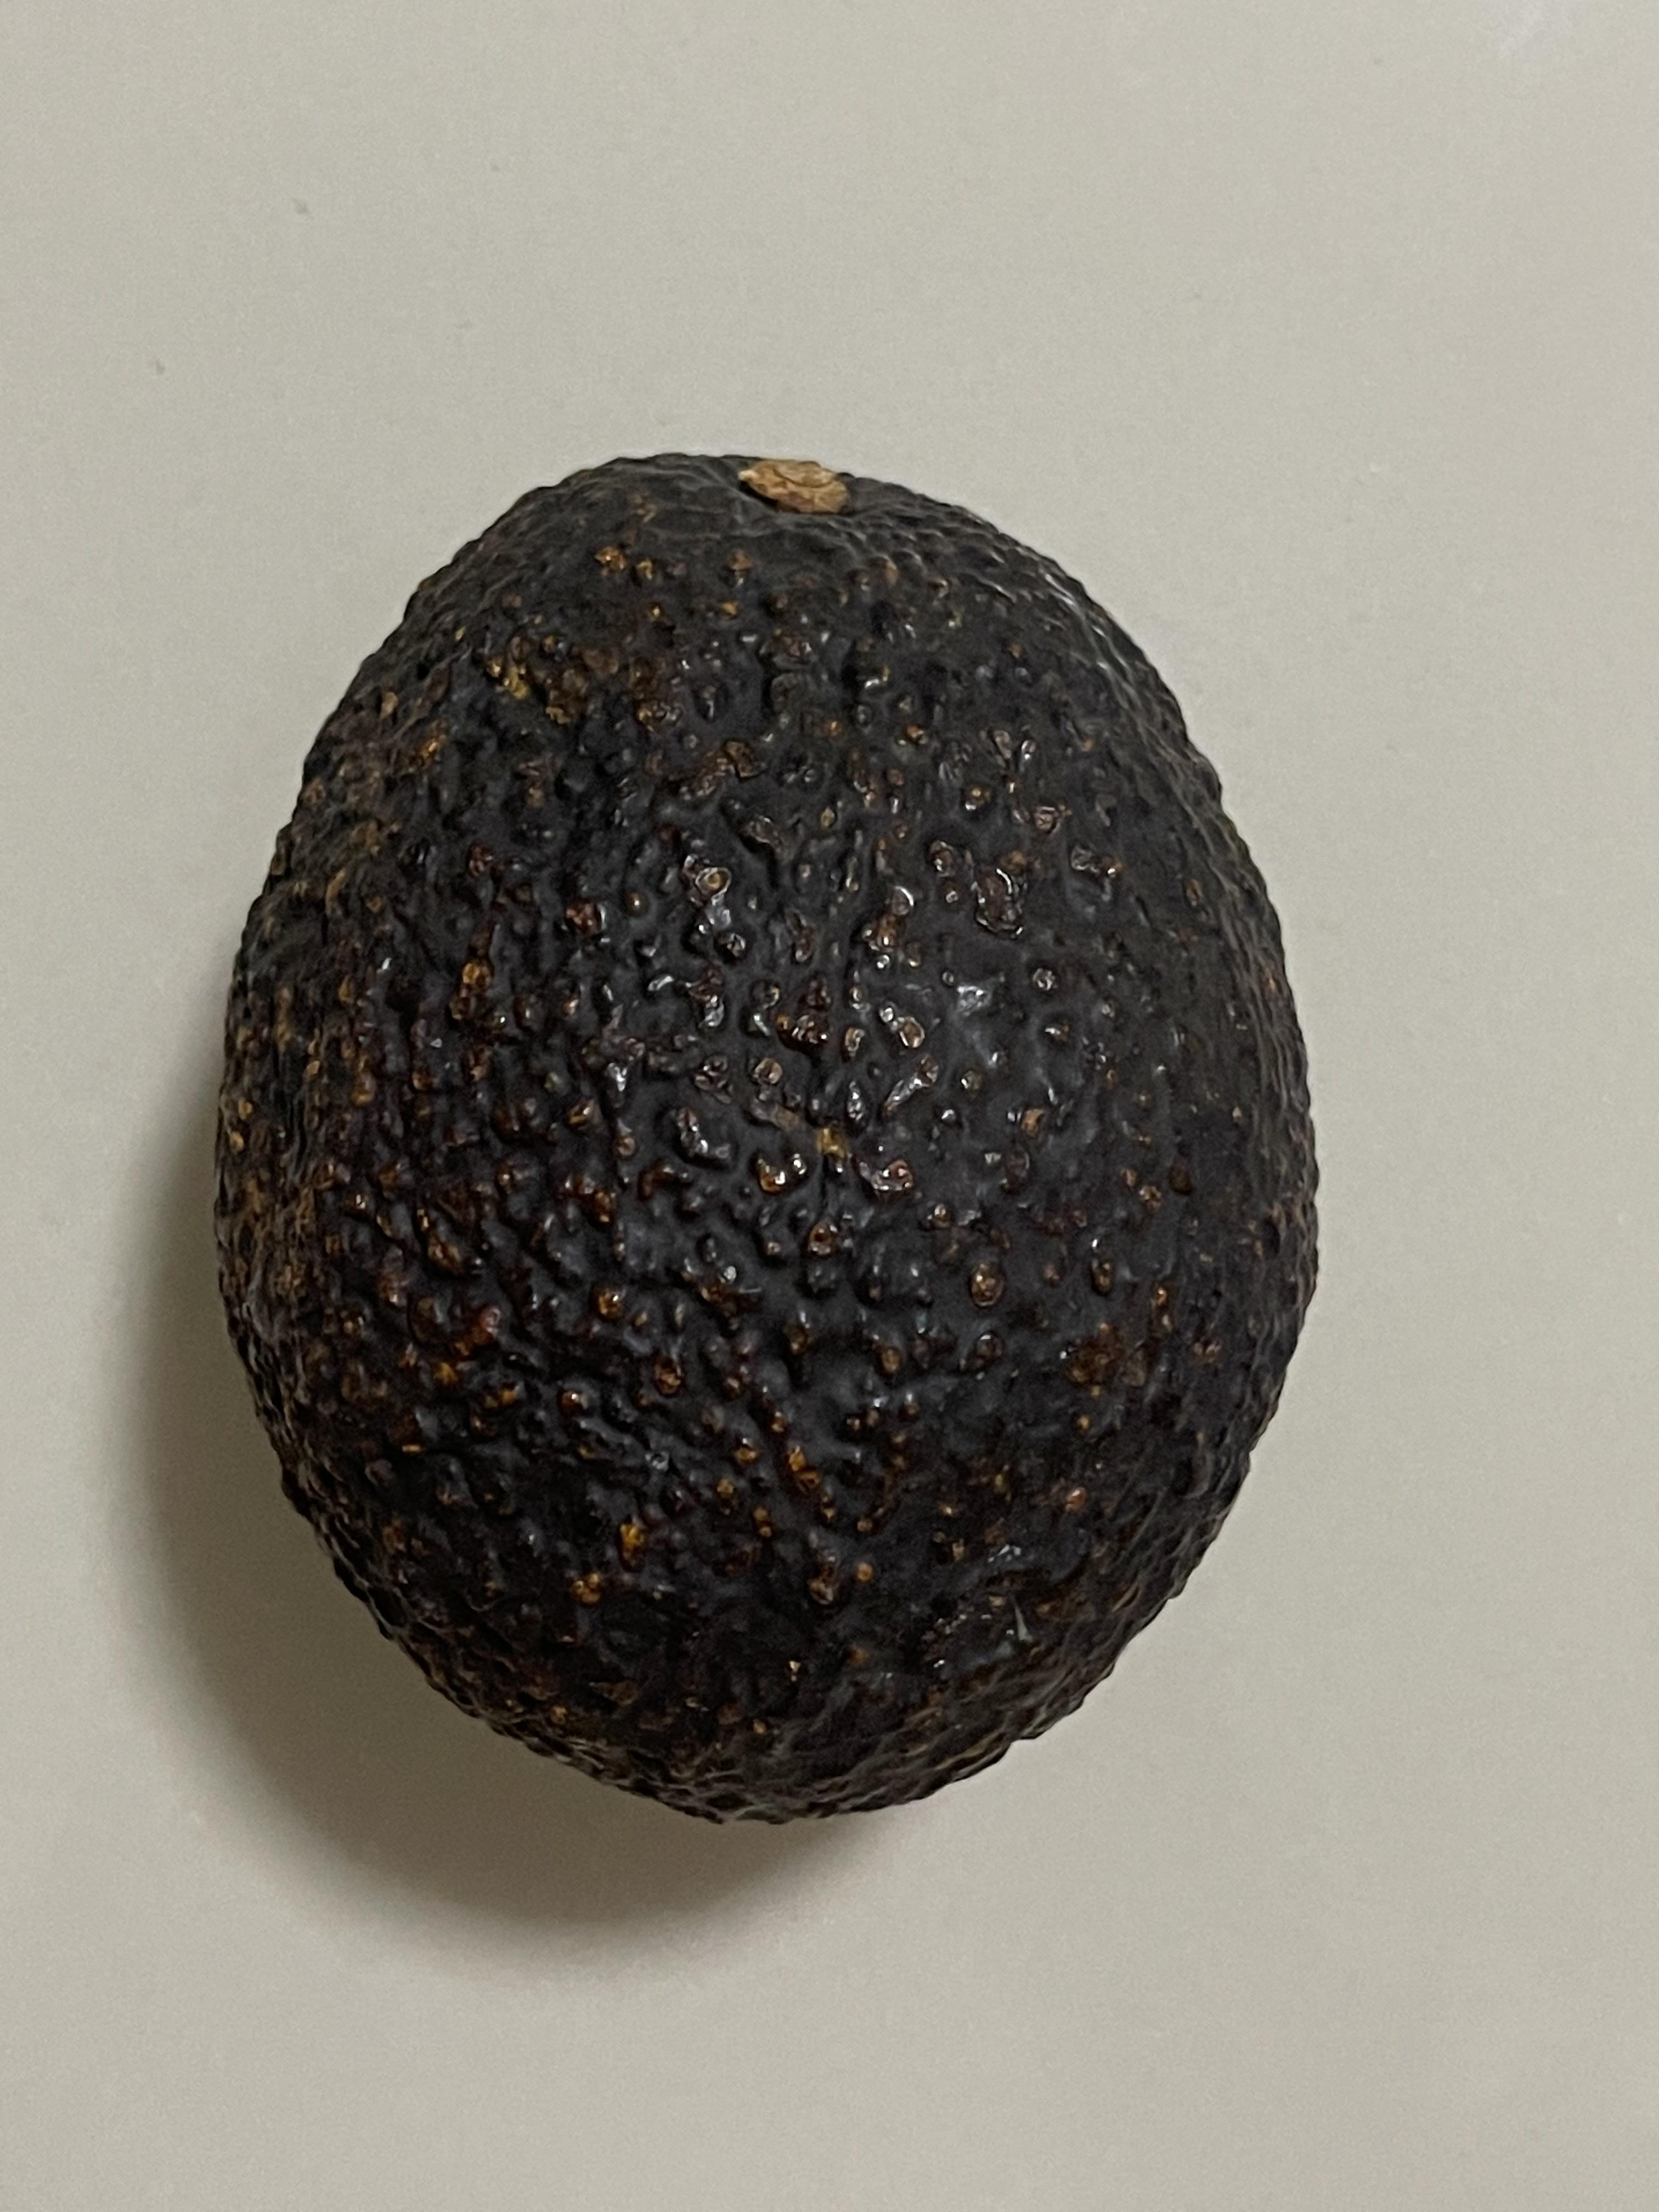Level3: (186, 423, 1354, 1844)
